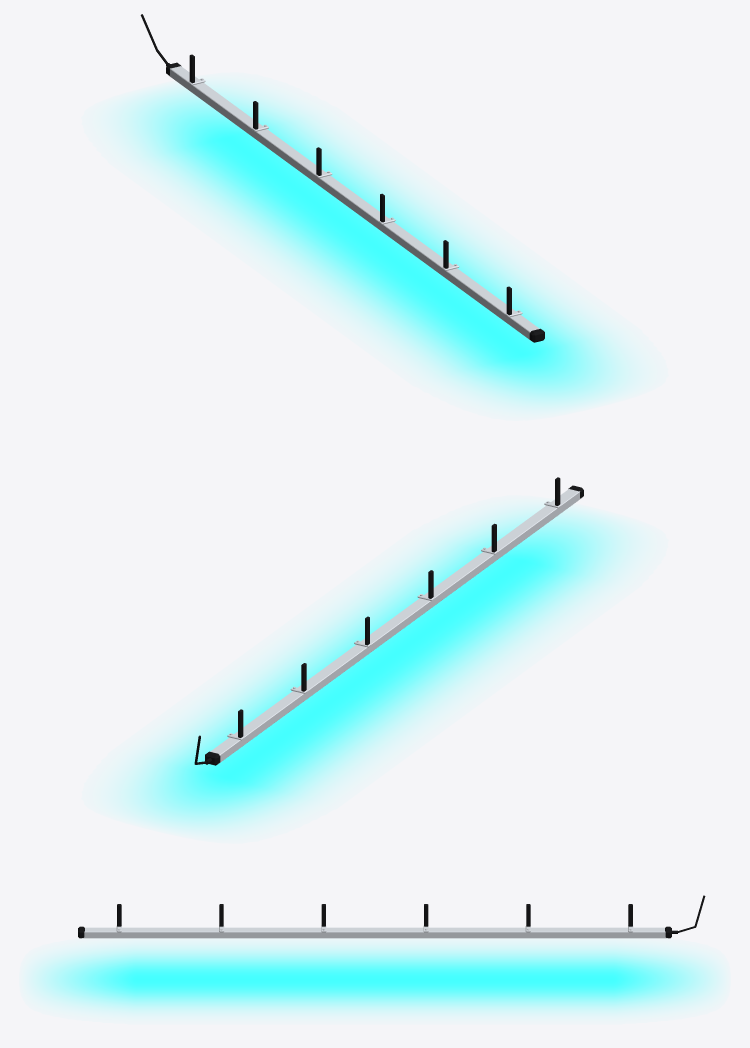
File: underglow_neon_dx.glb
3 renders of one model, top to bottom at view 1: azimuth 30°, elevation 25°; view 2: azimuth 150°, elevation 25°; view 3: azimuth 270°, elevation 25°, orthographic. The views are drawn at different scales.
Parts seen in each view (by area): view 1: glow_floor_cyan, chrome, plastic_black; view 2: glow_floor_cyan, chrome, plastic_black; view 3: glow_floor_cyan, chrome, plastic_black.
Boxes of the visible parts, x1,y1,x2,y2 form: glow_floor_cyan: (121,86,628,406); chrome: (168,66,539,341); plastic_black: (140,14,544,342); glow_floor_cyan: (121,509,628,829); chrome: (210,489,581,763); plastic_black: (194,477,583,765); glow_floor_cyan: (33,946,716,1012); chrome: (82,926,667,938); plastic_black: (78,895,705,938).
Size of the model in its own units: 1.7 by 0.5327 by 4.8.
4 materials, 1 textured.
